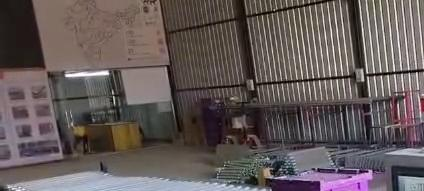box: (271, 169, 371, 190)
